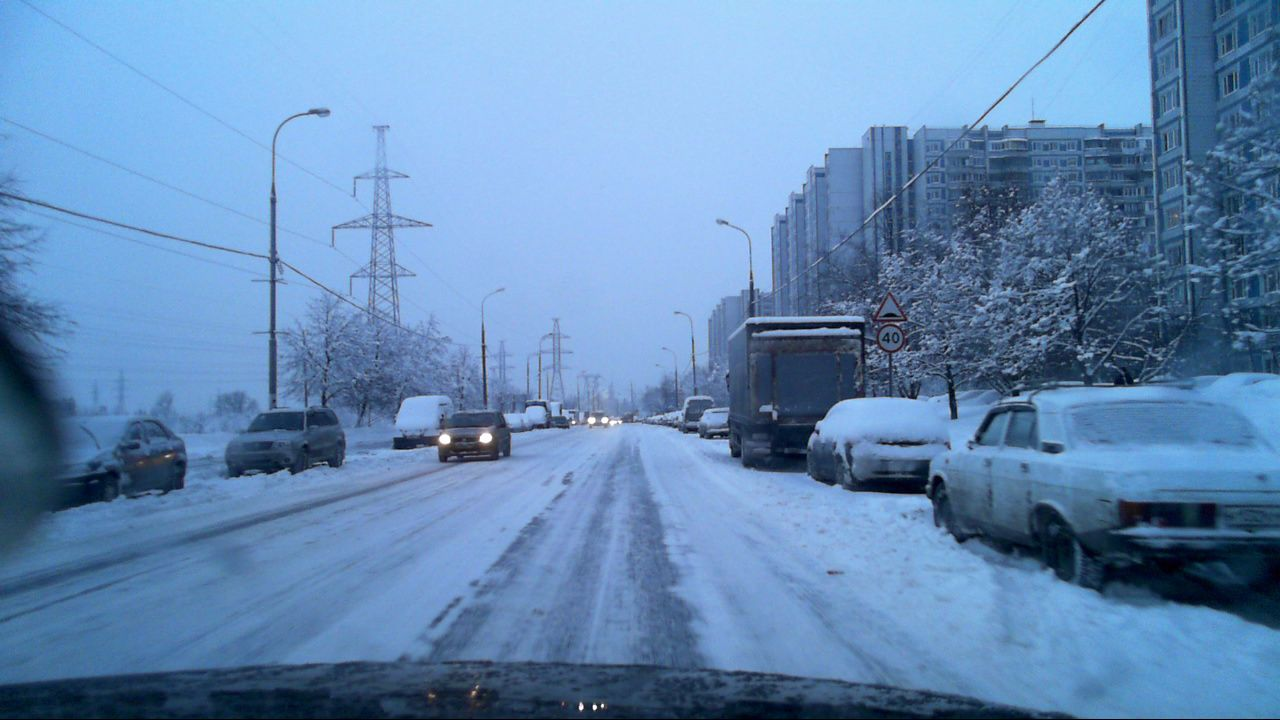speed_warning_40: (875, 324, 905, 352)
